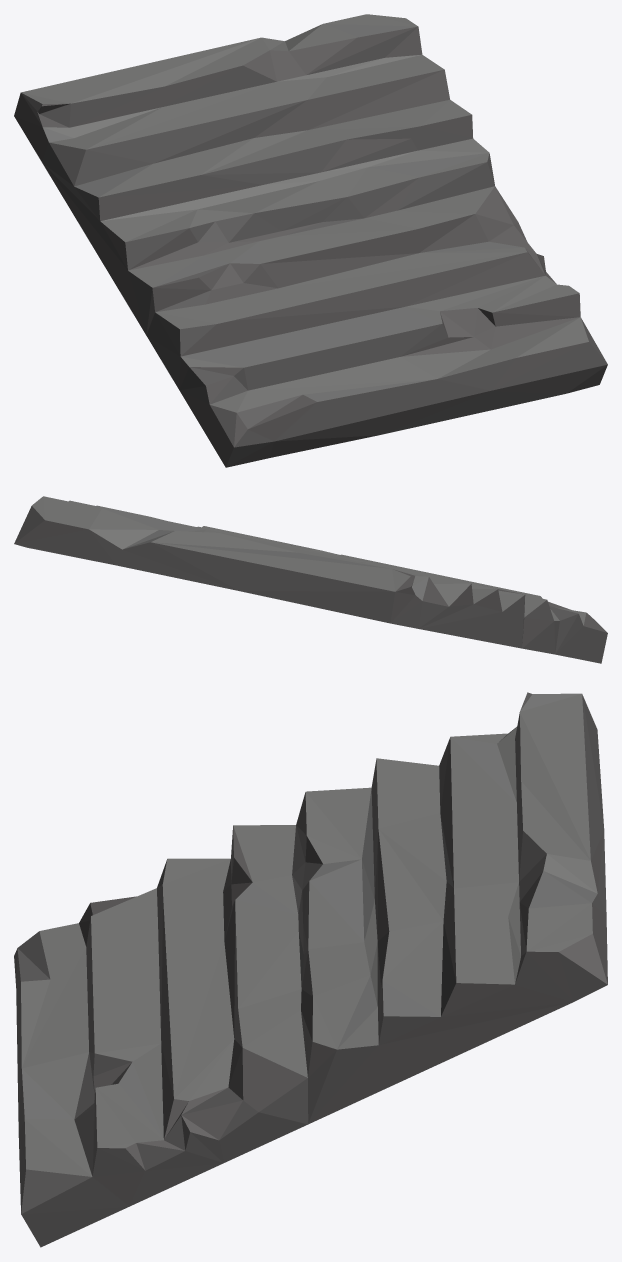
Rendered from SM_Env_Stairs_01.FBX.
3 views of the same model, one above another, from view 1: azimuth 30°, elevation 25°; view 2: azimuth 150°, elevation 25°; view 3: azimuth 270°, elevation 25° (orthographic). The views are drawn at different scales.
Parts seen in each view (by area): view 1: SM_Env_Stairs_01; view 2: SM_Env_Stairs_01; view 3: SM_Env_Stairs_01.
Part boxes in pixels (box(x1,y1,x2,y2)): SM_Env_Stairs_01: box(14, 14, 607, 467); SM_Env_Stairs_01: box(14, 496, 607, 663); SM_Env_Stairs_01: box(14, 692, 607, 1247).
Size of what is drawn, in the model's own units: 496 by 509 by 296.
